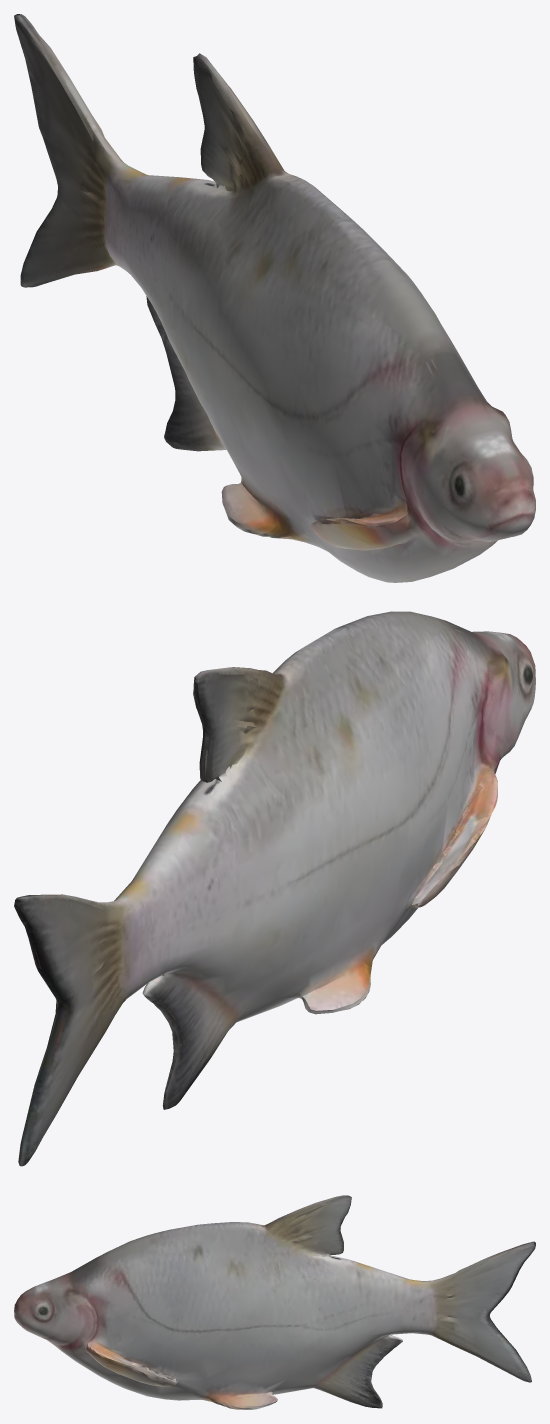
Rendered from brasem.glb.
The picture shows the model from 3 angles, top to bottom: view 1: azimuth 30°, elevation 25°; view 2: azimuth 150°, elevation 25°; view 3: azimuth 270°, elevation 25°; orthographic projection. The views are drawn at different scales.
Parts seen in each view (by area): view 1: Object_4; view 2: Object_4; view 3: Object_4.
Part boxes in pixels (x1,y1,x2,y2): Object_4: [14, 14, 535, 582]; Object_4: [14, 611, 535, 1166]; Object_4: [14, 1195, 535, 1409].
Bounding box in the file's own units: 0.3079 × 0.8586 × 1.91.
1 material, 1 textured.
